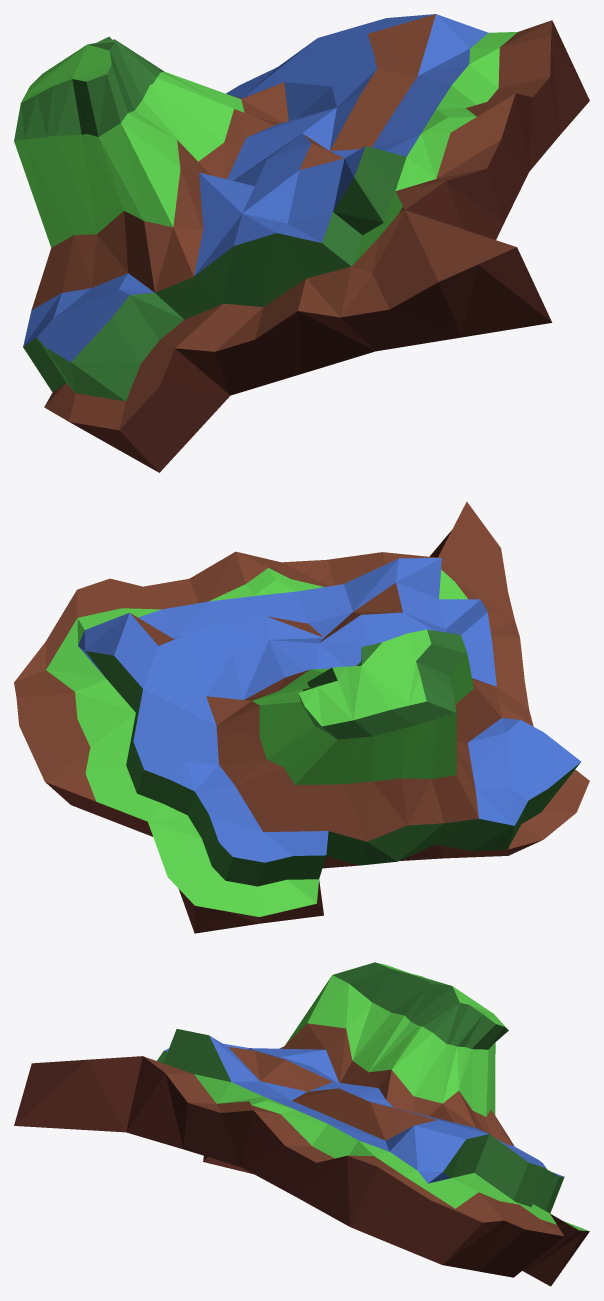
The model's file is MountTest.fbx.
3 renders of one model, top to bottom at view 1: azimuth 30°, elevation 25°; view 2: azimuth 150°, elevation 25°; view 3: azimuth 270°, elevation 25°, orthographic. The views are drawn at different scales.
Parts seen in each view (by area): view 1: Cube.014; view 2: Cube.014; view 3: Cube.014.
Part boxes in pixels (x1=…): Cube.014: x1=14, y1=14, x2=589, y2=472; Cube.014: x1=14, y1=501, x2=589, y2=933; Cube.014: x1=14, y1=962, x2=589, y2=1286.
Bounding box in the file's own units: 71.98 × 40.61 × 81.87.
